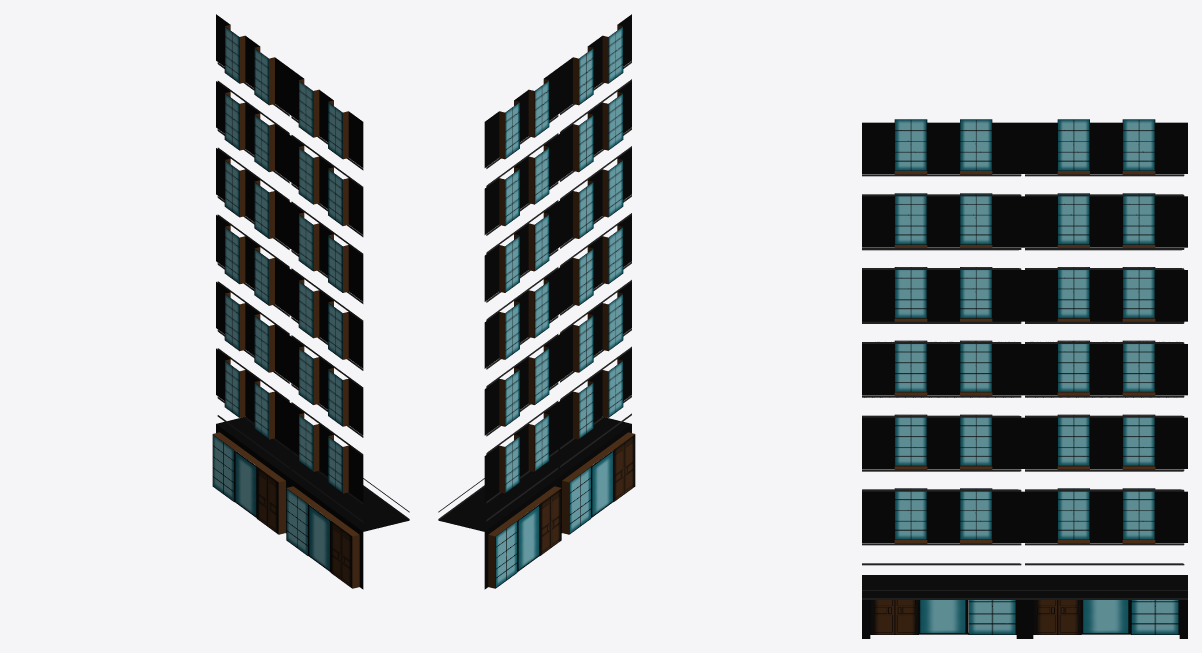
File: Me_Apartmentblock.fbx
The picture shows the model from 3 angles, left to right: view 1: azimuth 30°, elevation 25°; view 2: azimuth 150°, elevation 25°; view 3: azimuth 270°, elevation 25°; orthographic projection. The views are drawn at different scales.
Parts seen in each view (by area): view 1: Shop; view 2: Shop; view 3: Shop.
Boxes of the visible parts, x1,y1,x2,y2 form: Shop: [212, 14, 409, 589]; Shop: [438, 14, 635, 589]; Shop: [862, 119, 1187, 638].
Size of the model in its own units: 775 by 1400 by 800.
